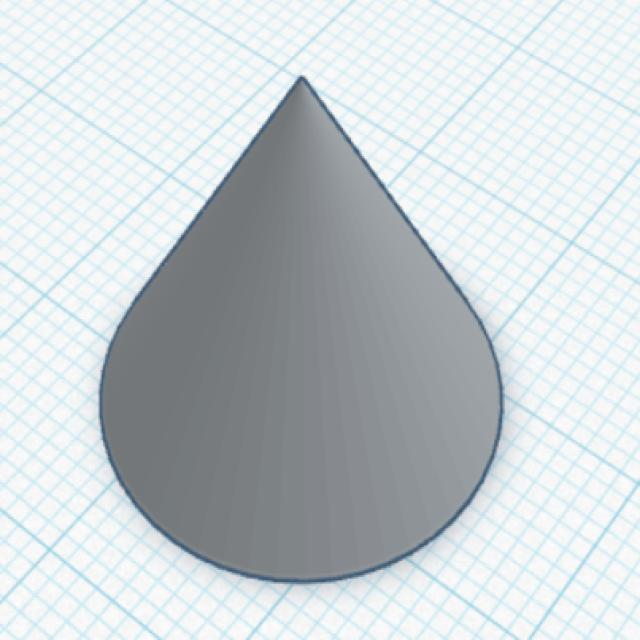cone: (94, 72, 508, 590)
